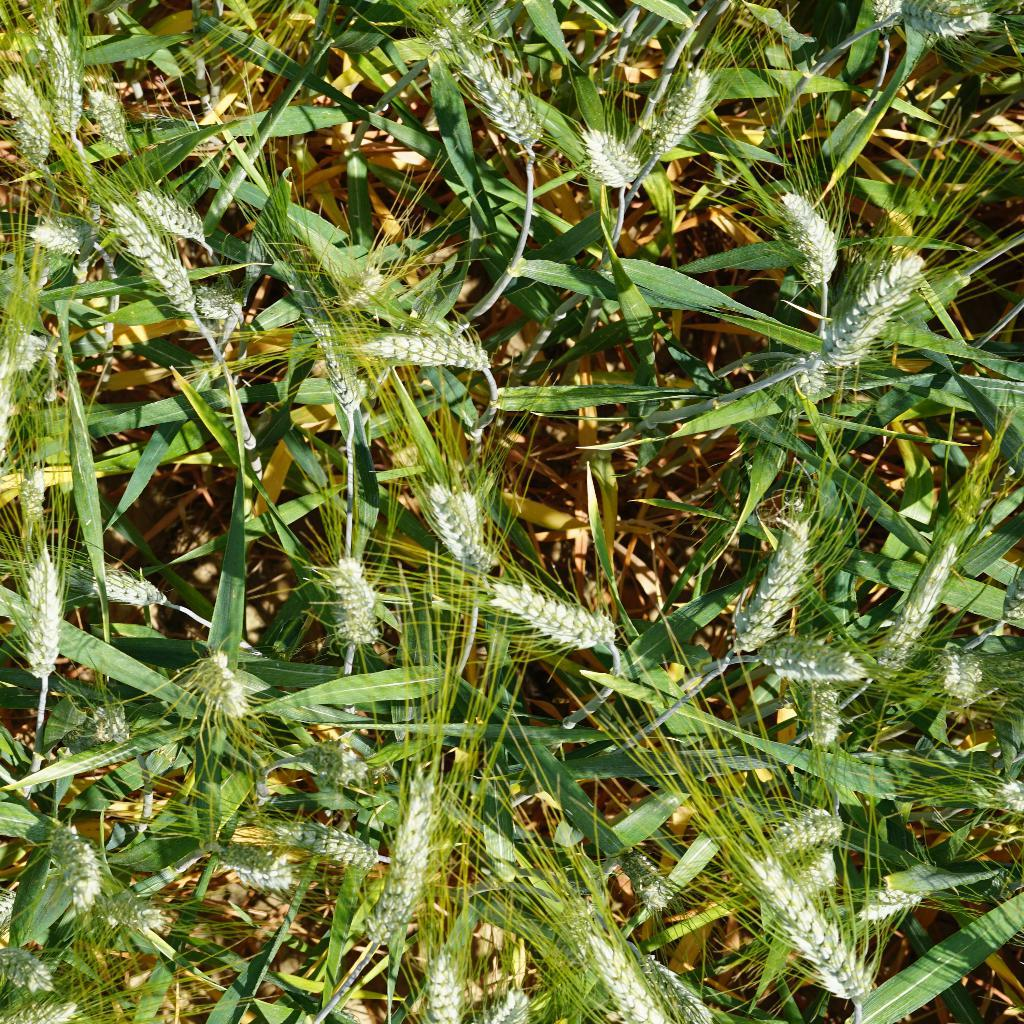0-0: (743, 845, 879, 1011), (564, 903, 729, 1024), (849, 505, 955, 676), (278, 238, 371, 429), (361, 748, 441, 944), (714, 493, 807, 653), (433, 29, 545, 160), (826, 247, 930, 378), (249, 798, 391, 884), (101, 201, 202, 321), (484, 571, 615, 658), (770, 168, 849, 303), (621, 56, 714, 164), (8, 530, 73, 680), (746, 621, 875, 695), (38, 811, 123, 923), (27, 0, 94, 133), (384, 930, 471, 1024), (367, 322, 493, 385), (63, 550, 174, 617), (793, 672, 874, 762), (752, 788, 851, 860), (852, 864, 940, 944), (36, 695, 137, 764), (129, 174, 216, 253), (425, 471, 496, 567), (316, 550, 388, 643), (567, 116, 639, 206), (198, 828, 295, 893), (70, 58, 135, 153), (0, 52, 55, 164), (885, 0, 1016, 45), (646, 948, 720, 1024), (920, 634, 991, 706), (191, 643, 254, 721), (82, 890, 181, 939), (0, 331, 32, 474), (0, 922, 64, 989), (613, 836, 677, 900), (0, 317, 51, 390), (9, 454, 60, 527), (781, 845, 858, 893), (777, 347, 839, 401), (467, 975, 535, 1024), (328, 258, 393, 309), (30, 206, 93, 253), (0, 997, 108, 1024), (851, 0, 919, 40), (200, 287, 258, 332), (310, 731, 361, 781), (983, 779, 1024, 824), (0, 879, 26, 941)
